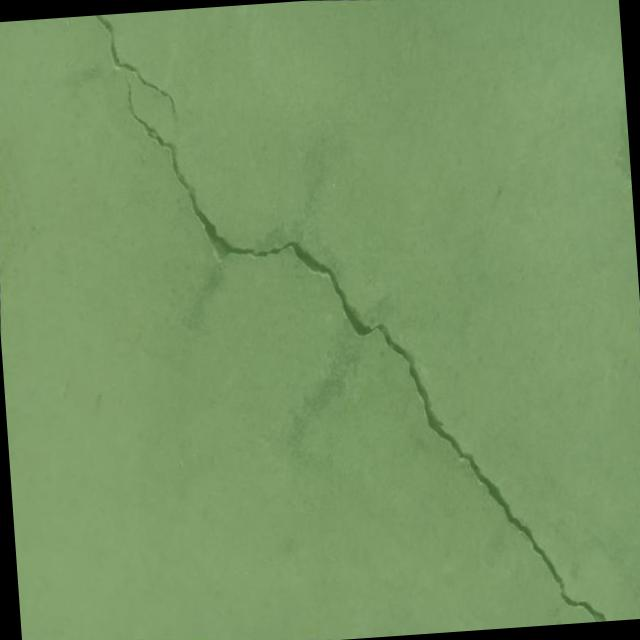crack: (94, 41, 640, 640), (79, 9, 185, 134)
